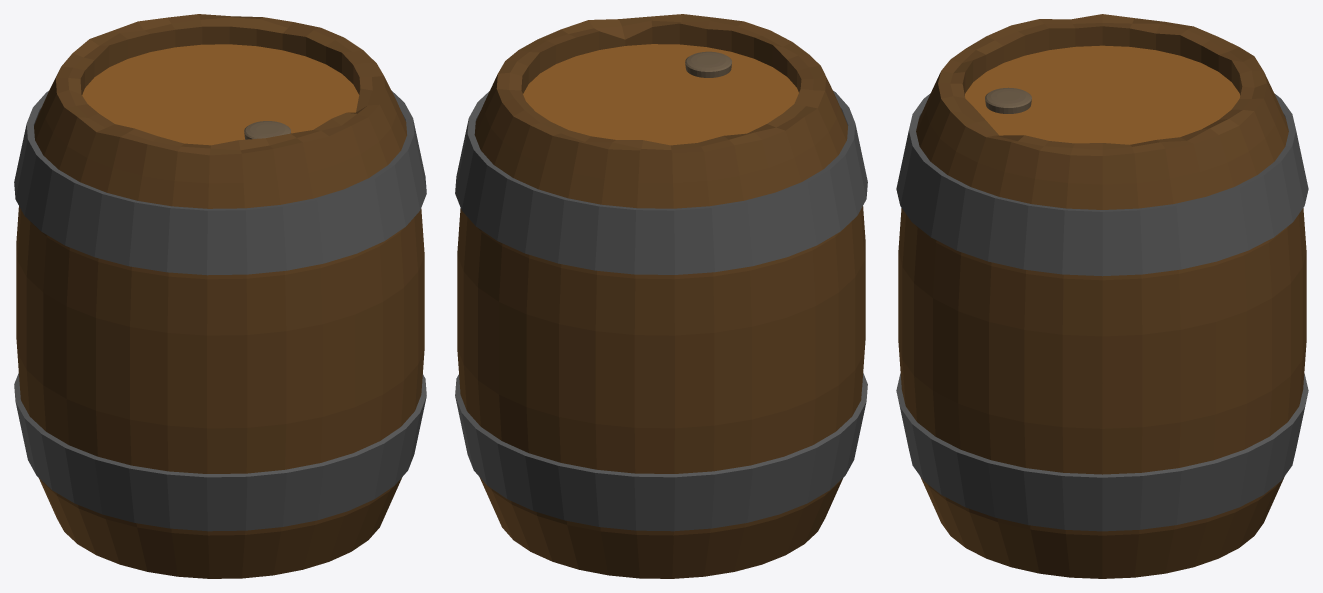
Rendered from Barrel.fbx.
3 renders of one model, left to right at view 1: azimuth 30°, elevation 25°; view 2: azimuth 150°, elevation 25°; view 3: azimuth 270°, elevation 25°, orthographic.
Parts seen in each view (by area): view 1: Cylinder, Cylinder.001, Cylinder.003, Cylinder.002; view 2: Cylinder, Cylinder.001, Cylinder.003, Cylinder.002; view 3: Cylinder, Cylinder.001, Cylinder.003, Cylinder.002.
Part boxes in pixels (x1,y1,x2,y2): Cylinder: (16,14,424,578); Cylinder.001: (14,90,426,531); Cylinder.003: (82,44,359,145); Cylinder.002: (244,121,290,139); Cylinder: (457,14,865,578); Cylinder.001: (455,90,867,531); Cylinder.003: (523,44,798,145); Cylinder.002: (685,51,732,77); Cylinder: (898,14,1306,578); Cylinder.001: (896,93,1308,531); Cylinder.003: (965,45,1239,144); Cylinder.002: (985,87,1031,113).
Bounding box in the file's own units: 87.72 × 100 × 87.72.
